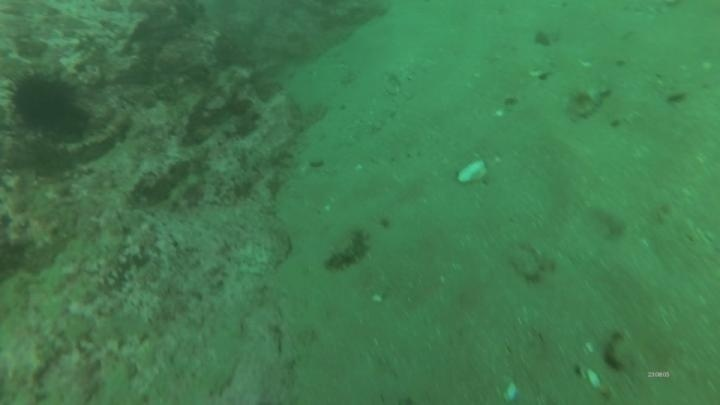echinus: (3, 66, 90, 140)
holothurian: (322, 225, 373, 274)
